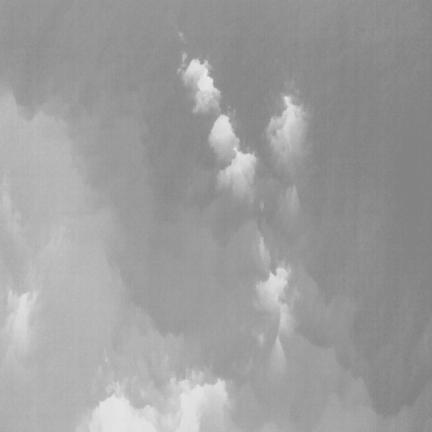flukeprints: (218, 151, 256, 193), (184, 59, 219, 101), (256, 267, 289, 306), (209, 115, 239, 156)
